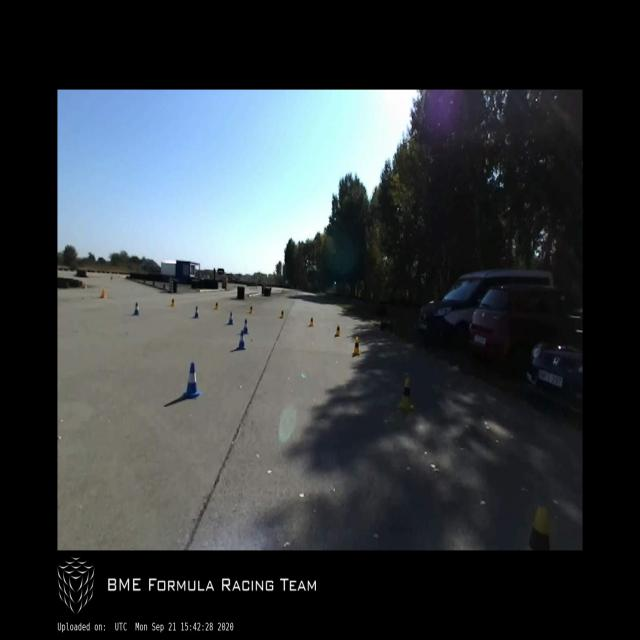blue_cone: (182, 363, 202, 400), (236, 329, 246, 349), (242, 319, 249, 334), (227, 312, 234, 325), (134, 302, 139, 316), (194, 306, 198, 319)
yellow_cone: (527, 506, 550, 550), (397, 378, 414, 412), (352, 335, 360, 356), (335, 323, 340, 337), (308, 316, 314, 326), (248, 304, 254, 314), (170, 296, 175, 306), (280, 308, 284, 318), (215, 300, 218, 310)
